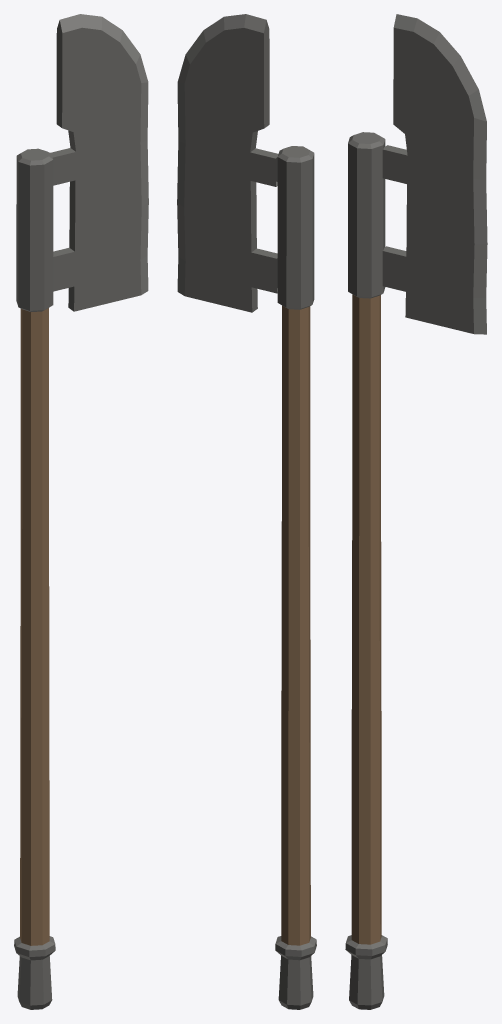
The model's file is SM_pwe_medieval_halberd_02.fbx.
3 views of the same model, side by side, from view 1: azimuth 30°, elevation 25°; view 2: azimuth 150°, elevation 25°; view 3: azimuth 330°, elevation 25° (orthographic).
Parts seen in each view (by area): view 1: SM_pwe_medieval_halberd_02; view 2: SM_pwe_medieval_halberd_02; view 3: SM_pwe_medieval_halberd_02.
Boxes of the visible parts, x1,y1,x2,y2 form: SM_pwe_medieval_halberd_02: (14,14,148,1009); SM_pwe_medieval_halberd_02: (177,14,316,1009); SM_pwe_medieval_halberd_02: (345,14,487,1009).
Size of the model in its own units: 22.89 by 159 by 6.32.
